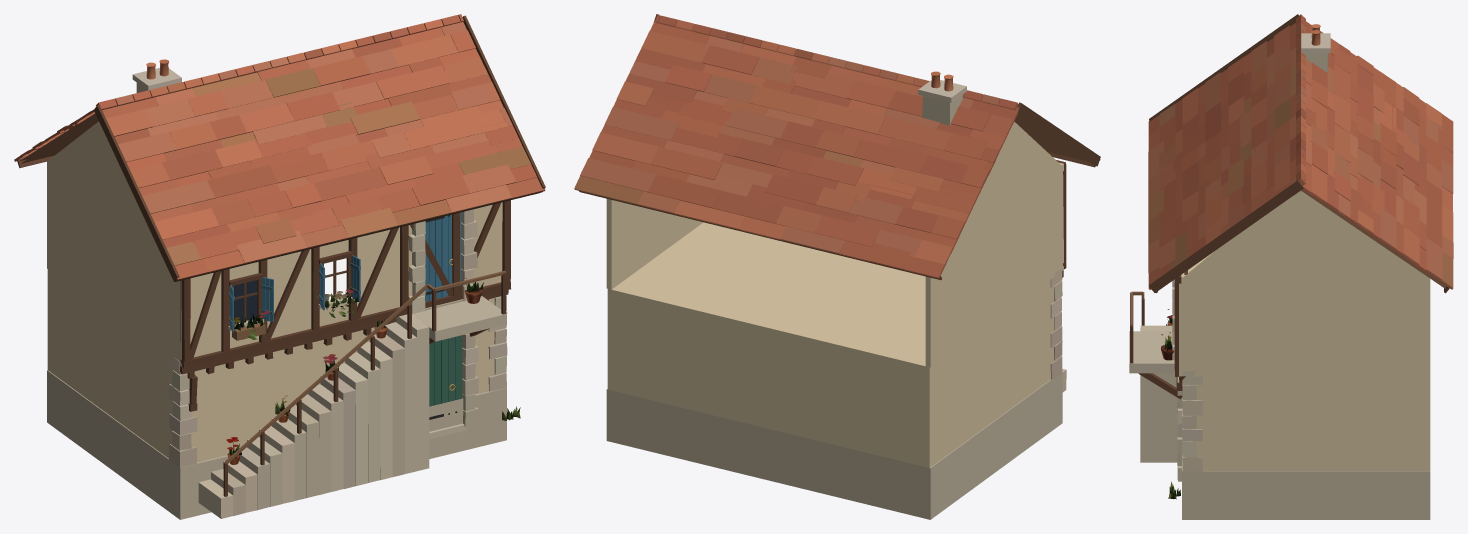
The model's file is vivienda_terrazas_escalera.glb.
The picture shows the model from 3 angles, left to right: view 1: azimuth 30°, elevation 25°; view 2: azimuth 150°, elevation 25°; view 3: azimuth 270°, elevation 25°; orthographic projection. The views are drawn at different scales.
Visible parts, largest first — view 1: vivienda_terrazas_escalera_fijo, vivienda_terrazas_escalera_vegetacion; view 2: vivienda_terrazas_escalera_fijo; view 3: vivienda_terrazas_escalera_fijo.
Part boxes in pixels (x1,y1,x2,y2): vivienda_terrazas_escalera_fijo: (14,14,545,519); vivienda_terrazas_escalera_vegetacion: (226,278,520,457); vivienda_terrazas_escalera_fijo: (574,14,1100,519); vivienda_terrazas_escalera_fijo: (1129,14,1453,519).
Bounding box in the file's own units: 9.02 × 9.17 × 7.38.
